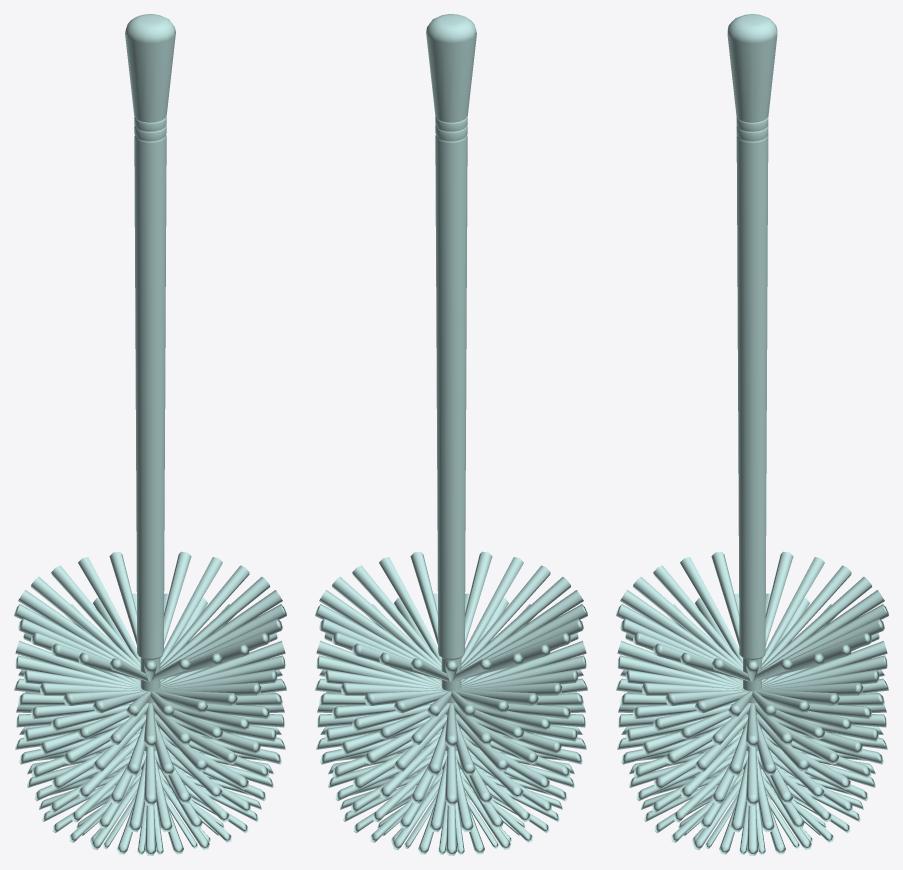
The model's file is Toilet brush.fbx.
3 views of the same model, side by side, from view 1: azimuth 30°, elevation 25°; view 2: azimuth 150°, elevation 25°; view 3: azimuth 270°, elevation 25° (orthographic).
Visible parts, largest first — view 1: pCylinder34; view 2: pCylinder34; view 3: pCylinder34.
Part boxes in pixels (x1,y1,x2,y2): pCylinder34: (14,14,286,855); pCylinder34: (315,14,587,855); pCylinder34: (616,14,888,855).
Bounding box in the file's own units: 0.1621 × 0.527 × 0.1621.
